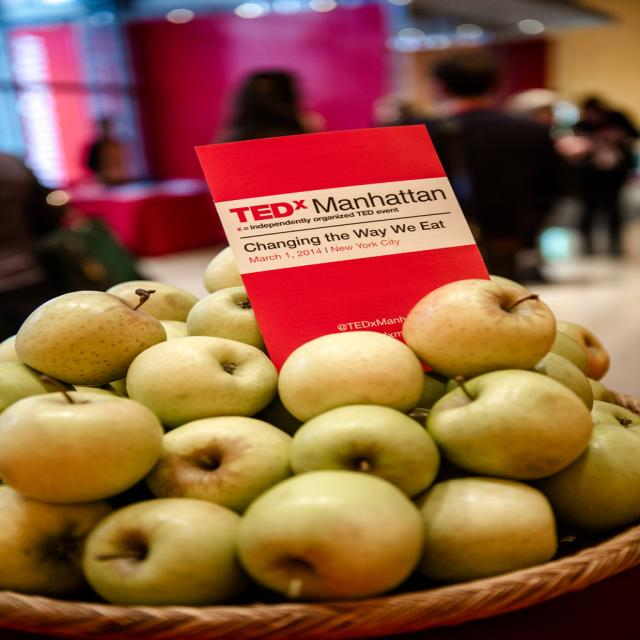Healty Apple: (0, 240, 639, 613)
